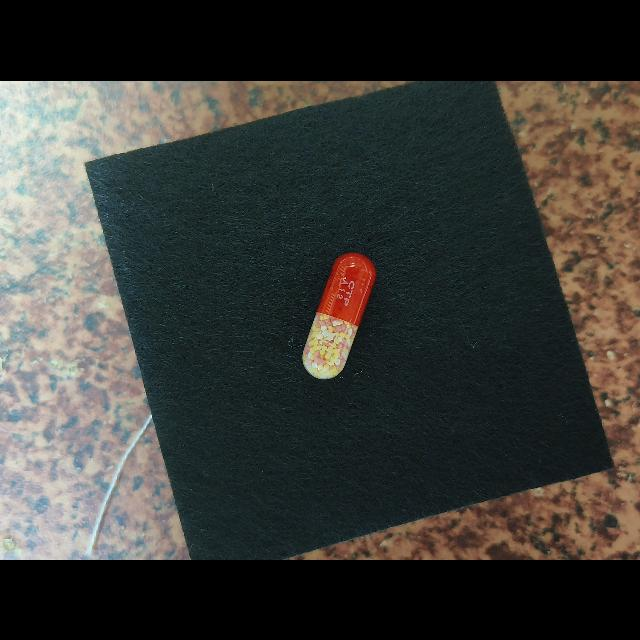Intact Capsule: (303, 252, 376, 379)
